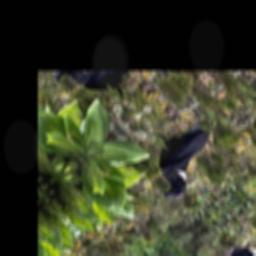Crow: (124, 108, 235, 207)
